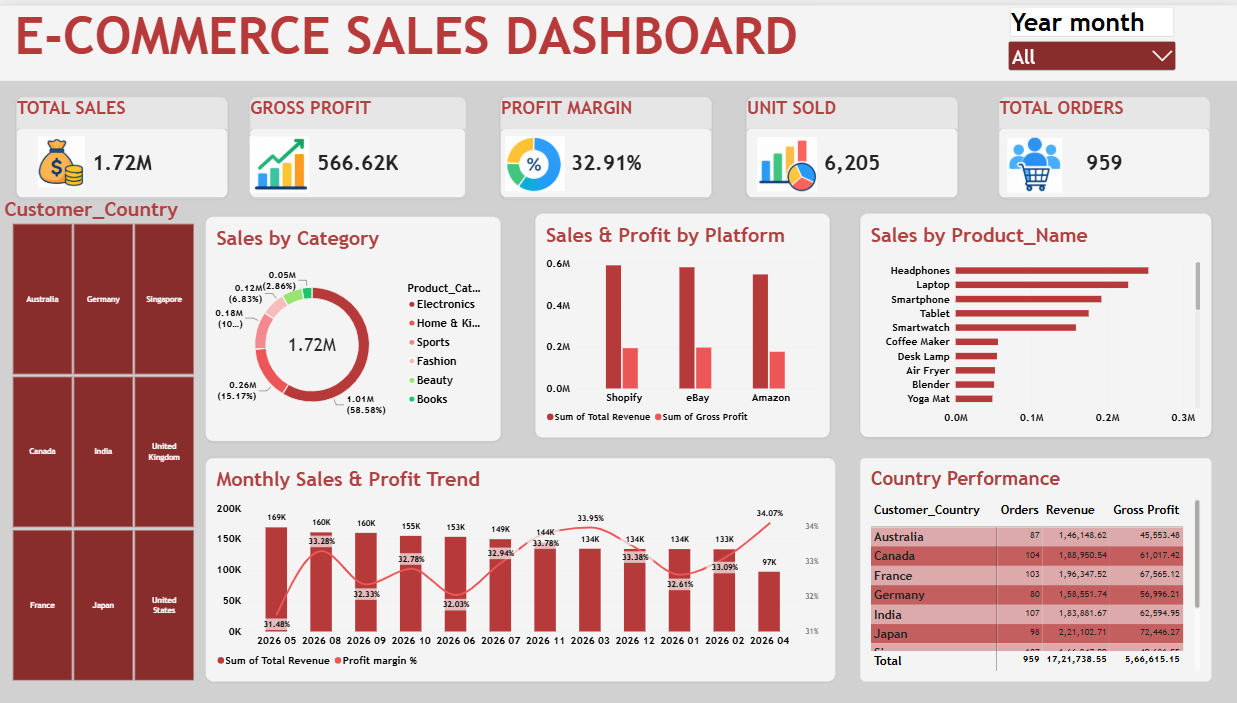

Layout of this report page (visuals, bound fields, positions):
{"tool":"powerbi","page":{"name":"Page 1","canvas":[1920,1080],"ordinal":0},"visuals":[{"type":"textbox","box":[10,206,1909,150],"z":0},{"type":"textbox","box":[0,0,1919.6,116.6],"z":1000},{"type":"cardVisual","title":"TOTAL SALES","fields":{"Data":["Ecom_Sales_Data.Total sales"]},"box":[27.9,142,327.1,157.2],"z":2000},{"type":"cardVisual","title":"GROSS PROFIT","fields":{"Data":["Ecom_Sales_Data.Gross Profit KPI"]},"box":[388,142,334.7,157.2],"z":3000},{"type":"cardVisual","title":"PROFIT MARGIN","fields":{"Data":["Ecom_Sales_Data.Profit margin %"]},"box":[776,142,327.1,157.2],"z":4000},{"type":"cardVisual","title":"UNIT SOLD","fields":{"Data":["Calendear.unit Sold Display"]},"box":[1156.3,142,327.1,157.2],"z":5000},{"type":"cardVisual","title":"TOTAL ORDERS","fields":{"Data":["Calendear.Total Order Display"]},"box":[1546.8,142,327.1,157.2],"z":6000},{"type":"donutChart","title":"Sales by Category","fields":{"Category":["Ecom_Sales_Data.Product_Category"],"Y":["Sum(Ecom_Sales_Data.Total Revenue)"]},"box":[320.5,325.6,456.4,347.4],"z":7000},{"type":"clusteredColumnChart","title":"Sales & Profit by Platform","fields":{"Category":["Ecom_Sales_Data.Platform"],"Y":["Sum(Ecom_Sales_Data.Total Revenue)","Sum(Ecom_Sales_Data.Gross Profit)"]},"box":[828.2,323.1,456,347],"z":8000},{"type":"lineClusteredColumnComboChart","title":"Monthly Sales & Profit Trend","fields":{"Category":["Calendear.Year month"],"Y":["Sum(Ecom_Sales_Data.Total Revenue)"],"Y2":["Ecom_Sales_Data.Profit margin %"]},"box":[320.5,700,974.4,346.2],"z":9000},{"type":"barChart","title":"  Sales by Product_Name","fields":{"Category":["Ecom_Sales_Data.Product_Name"],"Y":["Sum(Ecom_Sales_Data.Total Revenue)"]},"box":[1330.8,323.1,543.6,346.2],"z":10000},{"type":"pivotTable","title":"Country Performance","fields":{"Rows":["Ecom_Sales_Data.Customer_Country"],"Values":["Ecom_Sales_Data.Total Orders","Sum(Ecom_Sales_Data.Total Revenue)","Sum(Ecom_Sales_Data.Gross Profit)"]},"box":[1330.8,700,543.6,346.2],"z":11000},{"type":"slicer","fields":{"Values":["Calendear.Year month"]},"box":[1556.1,2.4,269.2,115.4],"z":12000},{"type":"slicer","fields":{"Values":["Ecom_Sales_Data.Customer_Country"]},"box":[0,297.4,320.5,748.7],"z":13000},{"type":"image","box":[28.2,202.6,133.3,79.5],"z":14000},{"type":"image","box":[387.2,194.9,92.3,102.6],"z":15000},{"type":"image","box":[782.1,197.4,92.3,94.9],"z":16000},{"type":"image","box":[1174.4,202.6,92.3,87.2],"z":17000},{"type":"image","box":[1556.4,205.1,92.3,84.6],"z":18000}]}

Visuals, with their boxes in screenshot pixels (x1, y1, x2, y2), scaled from the page's 1920x1080 canvas onto the 1237x703 screenshot:
textbox: 6 134 1236 232
textbox: 0 0 1236 76
"TOTAL SALES" cardVisual: 18 92 229 195
"GROSS PROFIT" cardVisual: 250 92 466 195
"PROFIT MARGIN" cardVisual: 500 92 711 195
"UNIT SOLD" cardVisual: 745 92 956 195
"TOTAL ORDERS" cardVisual: 997 92 1207 195
"Sales by Category" donutChart: 206 212 501 438
"Sales & Profit by Platform" clusteredColumnChart: 534 210 827 436
"Monthly Sales & Profit Trend" lineClusteredColumnComboChart: 206 456 834 681
"  Sales by Product_Name" barChart: 857 210 1208 436
"Country Performance" pivotTable: 857 456 1208 681
slicer - Calendear.Year month: 1003 2 1176 77
slicer - Ecom_Sales_Data.Customer_Country: 0 194 206 681
image: 18 132 104 184
image: 249 127 309 194
image: 504 128 563 190
image: 757 132 816 189
image: 1003 134 1062 189
